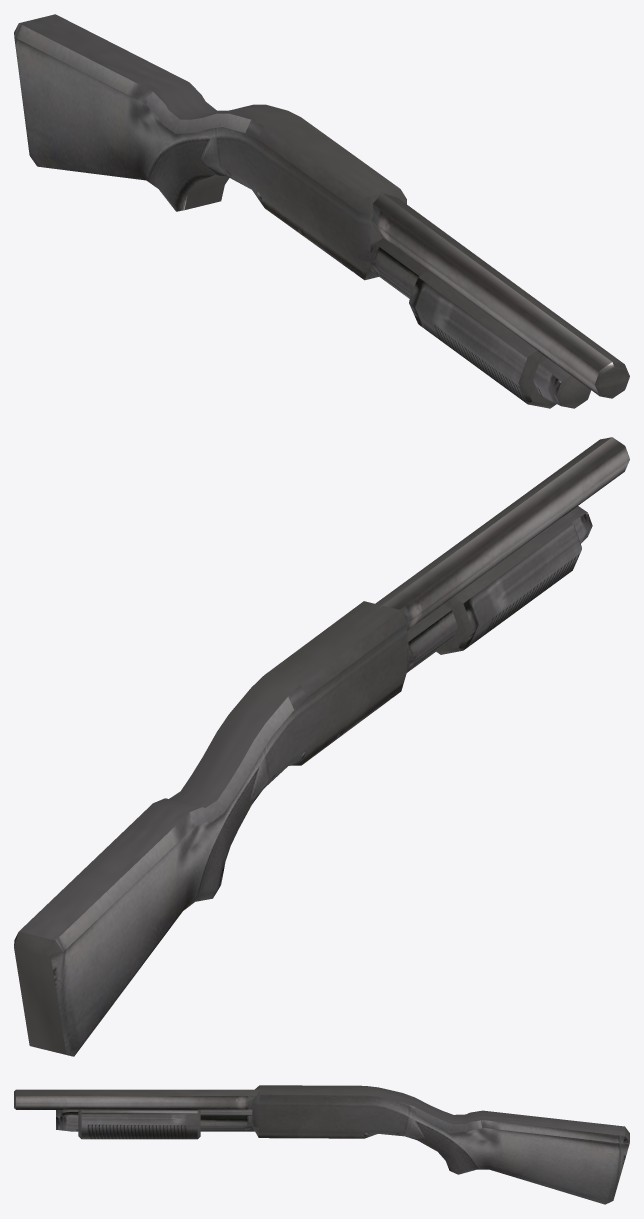
The model's file is weapon_shotgun.glb.
3 views of the same model, one above another, from view 1: azimuth 30°, elevation 25°; view 2: azimuth 150°, elevation 25°; view 3: azimuth 270°, elevation 25° (orthographic). The views are drawn at different scales.
Visible parts, largest first — view 1: Object_2; view 2: Object_2; view 3: Object_2.
Boxes of the visible parts, bbox=[...] form: Object_2: bbox=[14, 14, 629, 408]; Object_2: bbox=[14, 437, 629, 1056]; Object_2: bbox=[14, 1085, 629, 1204].
Size of the model in its own units: 0.2832 by 0.8824 by 4.47.
Materials: 1 (1 with a texture image).
